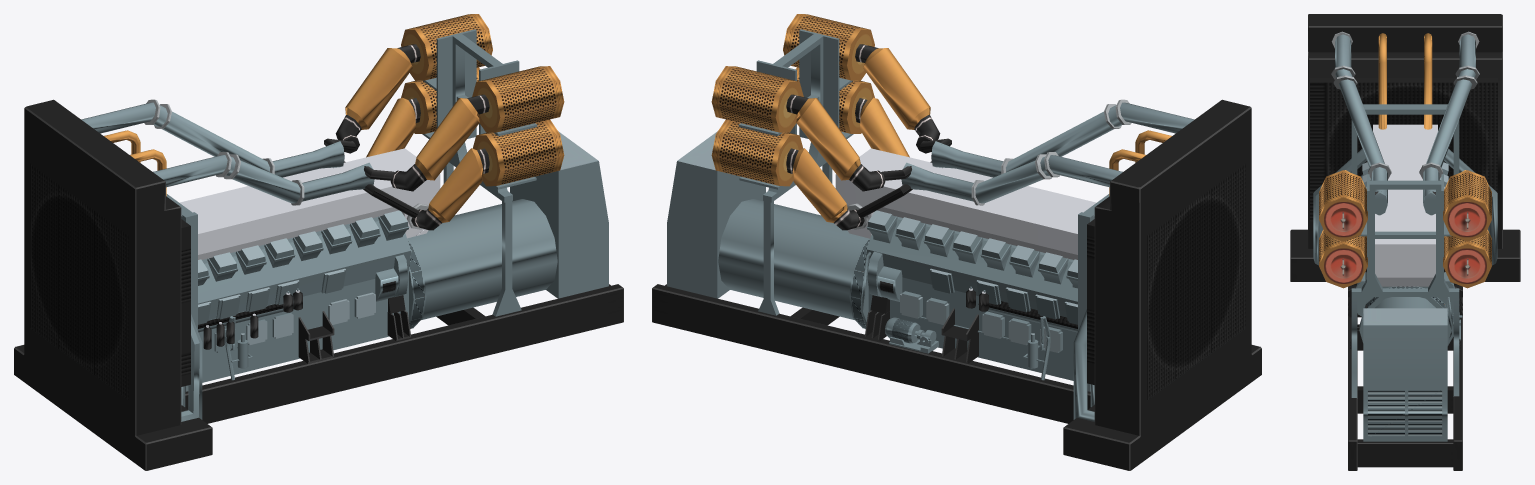
File: 科泰KM2500E发电机组.glb
The picture shows the model from 3 angles, left to right: view 1: azimuth 30°, elevation 25°; view 2: azimuth 150°, elevation 25°; view 3: azimuth 270°, elevation 25°; orthographic projection. The views are drawn at different scales.
Visible parts, largest first — view 1: Lo-BODY_01; view 2: Lo-BODY_01; view 3: Lo-BODY_01.
Part boxes in pixels (left/top/right/bottom): Lo-BODY_01: left=14, top=14, right=623, bottom=470; Lo-BODY_01: left=652, top=14, right=1261, bottom=470; Lo-BODY_01: left=1290, top=14, right=1520, bottom=470.
Bounding box in the file's own units: 6.22 × 3.21 × 2.79.
Materials: 2 (2 with a texture image).
